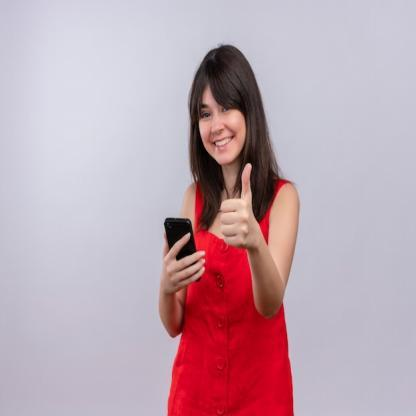thumb_up: (219, 160, 258, 251)
